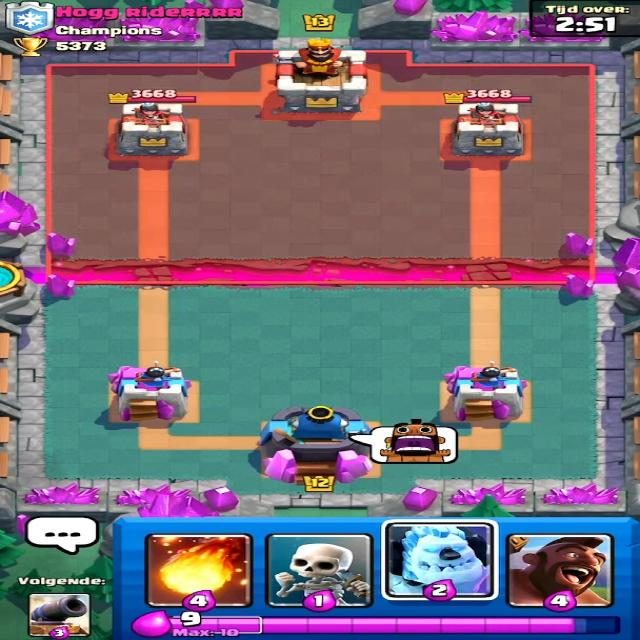Fireball_Card: (146, 532, 255, 610)
Hog_Rider_Card: (504, 533, 613, 607)
Ice_Golem_Card: (387, 522, 496, 597)
Skeleton_Card: (271, 537, 375, 608)
